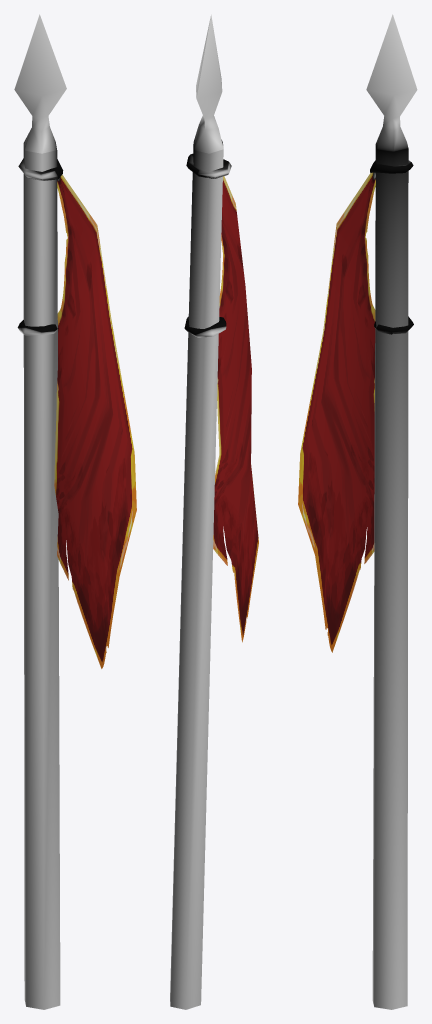
The model's file is SM_PROP_flag_04.FBX.
3 renders of one model, left to right at view 1: azimuth 90°, elevation 25°; view 2: azimuth 150°, elevation 25°; view 3: azimuth 270°, elevation 25°, orthographic. The views are drawn at different scales.
Visible parts, largest first — view 1: SM_PROP_flag_04; view 2: SM_PROP_flag_04; view 3: SM_PROP_flag_04.
Boxes of the visible parts, <box> form: SM_PROP_flag_04: <box>14,14,136,1009</box>; SM_PROP_flag_04: <box>170,14,258,1009</box>; SM_PROP_flag_04: <box>298,14,417,1009</box>.
Size of the model in its own units: 40.65 by 75.52 by 656.
